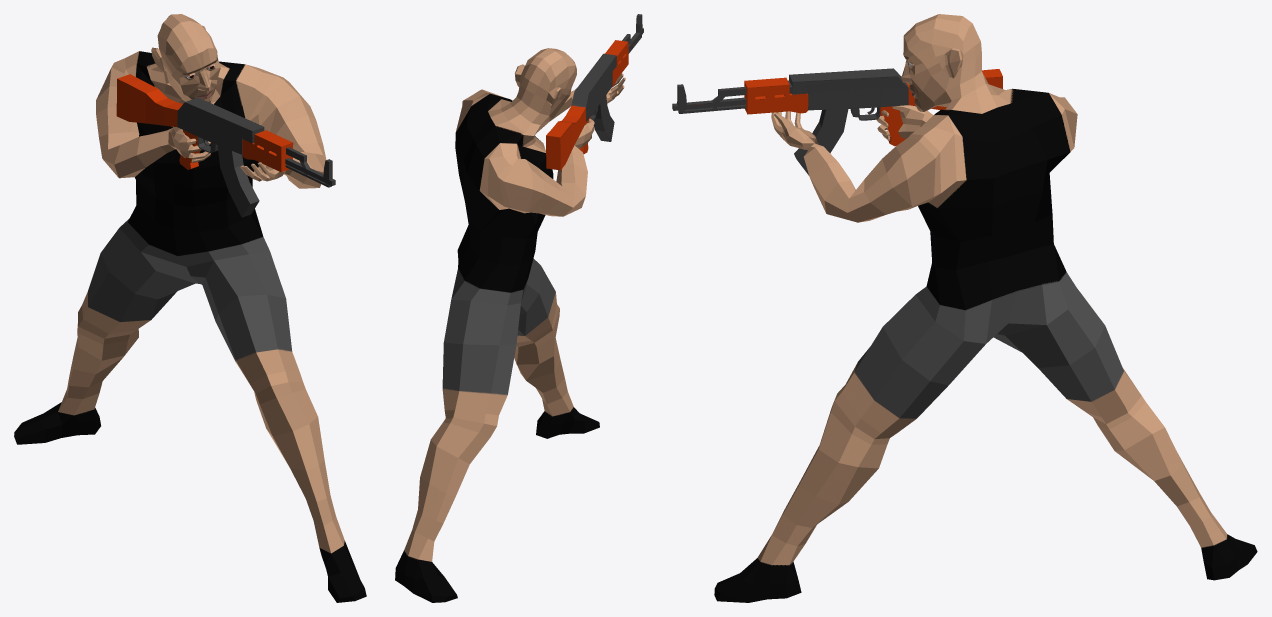
Rendered from PlayerShoot(3).obj.
3 renders of one model, left to right at view 1: azimuth 30°, elevation 25°; view 2: azimuth 150°, elevation 25°; view 3: azimuth 270°, elevation 25°, orthographic. The views are drawn at different scales.
Visible parts, largest first — view 1: Plane002, Object001; view 2: Plane002, Object001; view 3: Plane002, Object001.
Part boxes in pixels (left/top/right/bottom): Plane002: left=14, top=14, right=366, bottom=602; Object001: left=116, top=74, right=335, bottom=217; Plane002: left=395, top=48, right=625, bottom=602; Object001: left=546, top=14, right=643, bottom=170; Plane002: left=714, top=14, right=1257, bottom=602; Object001: left=672, top=68, right=1002, bottom=175.
Bounding box in the file's own units: 546 × 1631 × 1583.
